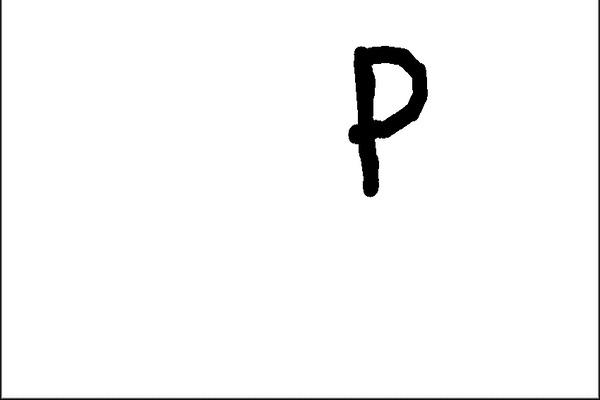P: (330, 35, 441, 199)
